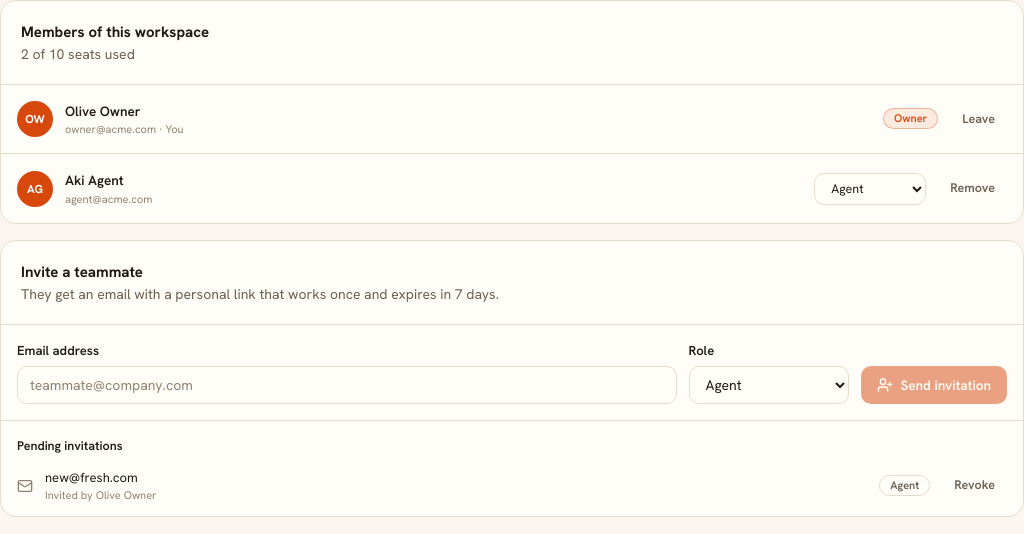
Test: MembersTab — the real roster › the roadmap placeholder is gone — no 'not wired yet', and Invite really works
The width and height of the screenshot is (1024, 534).
Check: the text "Olive Owner" is shown, box [65, 102, 140, 120]
Check: the button "Send invitation" is disabled, box [860, 366, 1007, 404]
Type "new@fresh.com" into the field labelled "Email address". click: {"x": 347, "y": 385}
box: [17, 366, 676, 404]
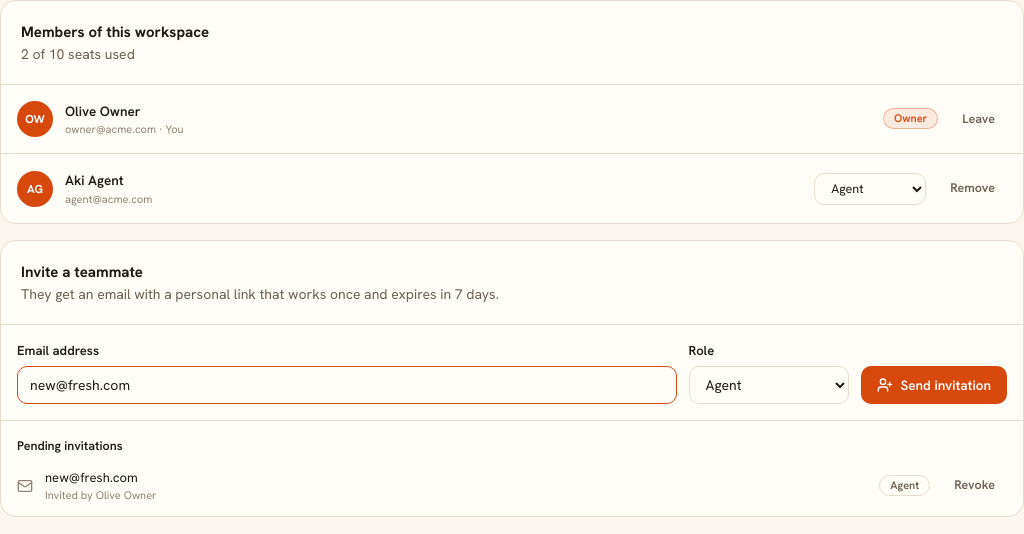
Check: the button "Send invitation" is enabled, box [860, 366, 1007, 404]
